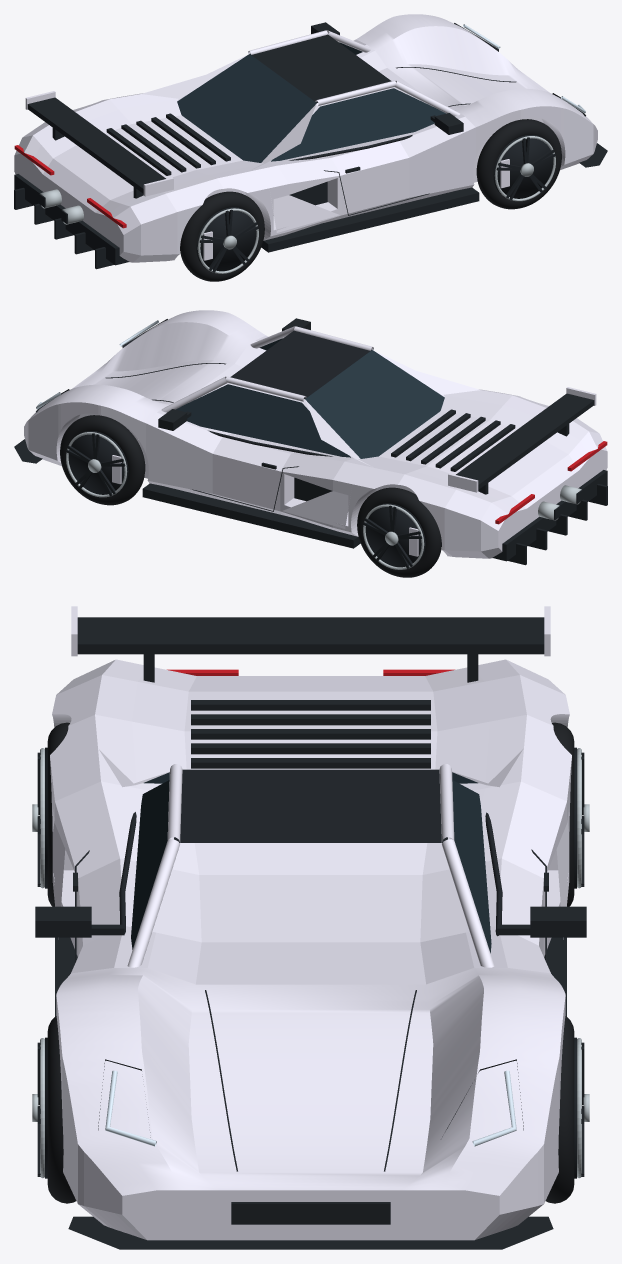
The model's file is riv4.glb.
3 renders of one model, top to bottom at view 1: azimuth 30°, elevation 25°; view 2: azimuth 150°, elevation 25°; view 3: azimuth 270°, elevation 25°, orthographic. The views are drawn at different scales.
Parts seen in each view (by area): view 1: 頂級工藝超跑_1; view 2: 頂級工藝超跑_1; view 3: 頂級工藝超跑_1.
Boxes of the visible parts, box(x1,y1,x2,y2) form: 頂級工藝超跑_1: box(14, 14, 607, 281); 頂級工藝超跑_1: box(14, 310, 607, 577); 頂級工藝超跑_1: box(32, 606, 589, 1249).
Bounding box in the file's own units: 4.78 × 1.18 × 2.28.
